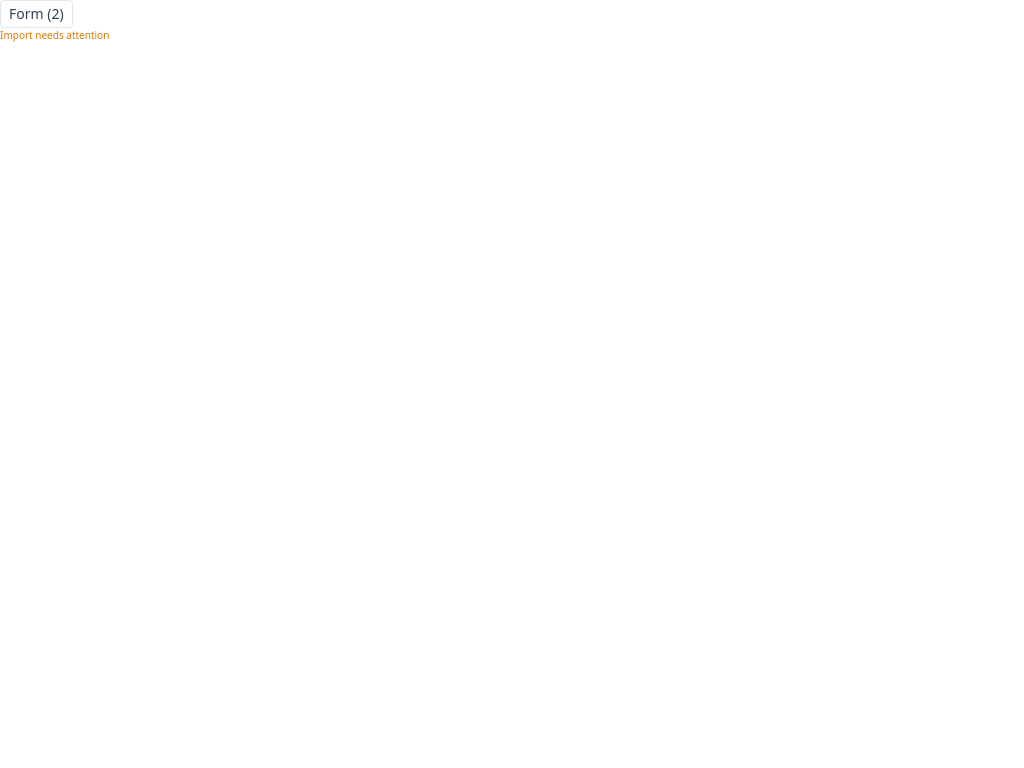
Test: pretrip form details › keeps submissions from different inspection days selectable
Click the button "Form (2)": {"x": 36, "y": 14} [0,0,73,28]
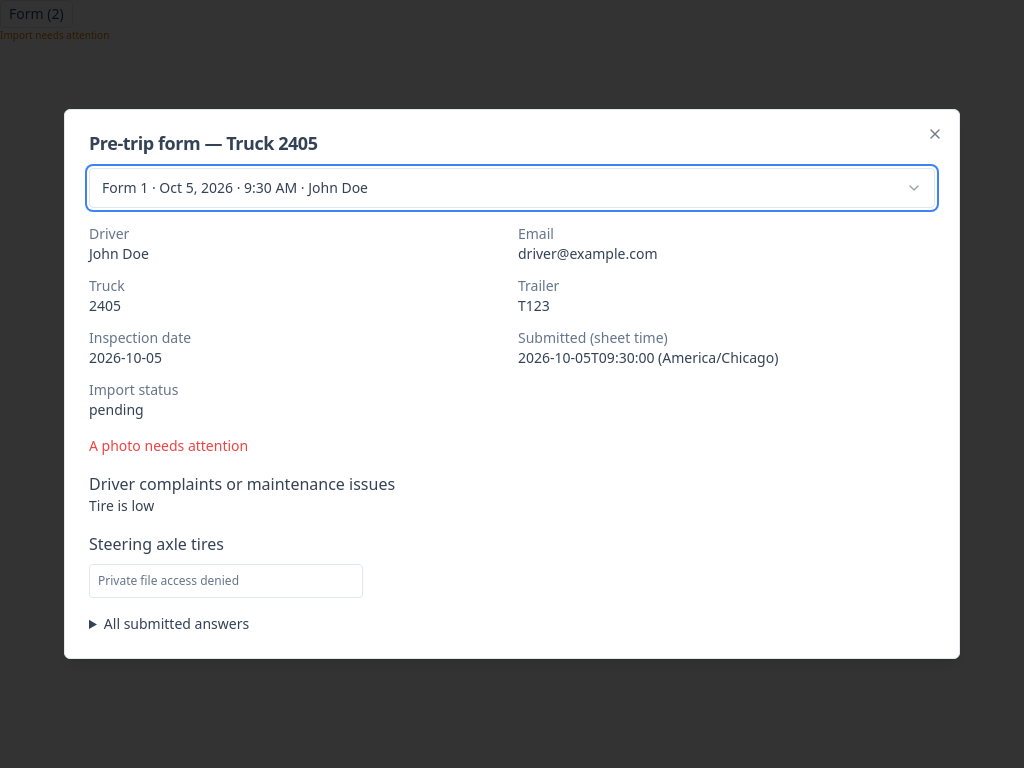
Press ArrowDown in the dropdown named "Select form submission", box [89,168,935,208]
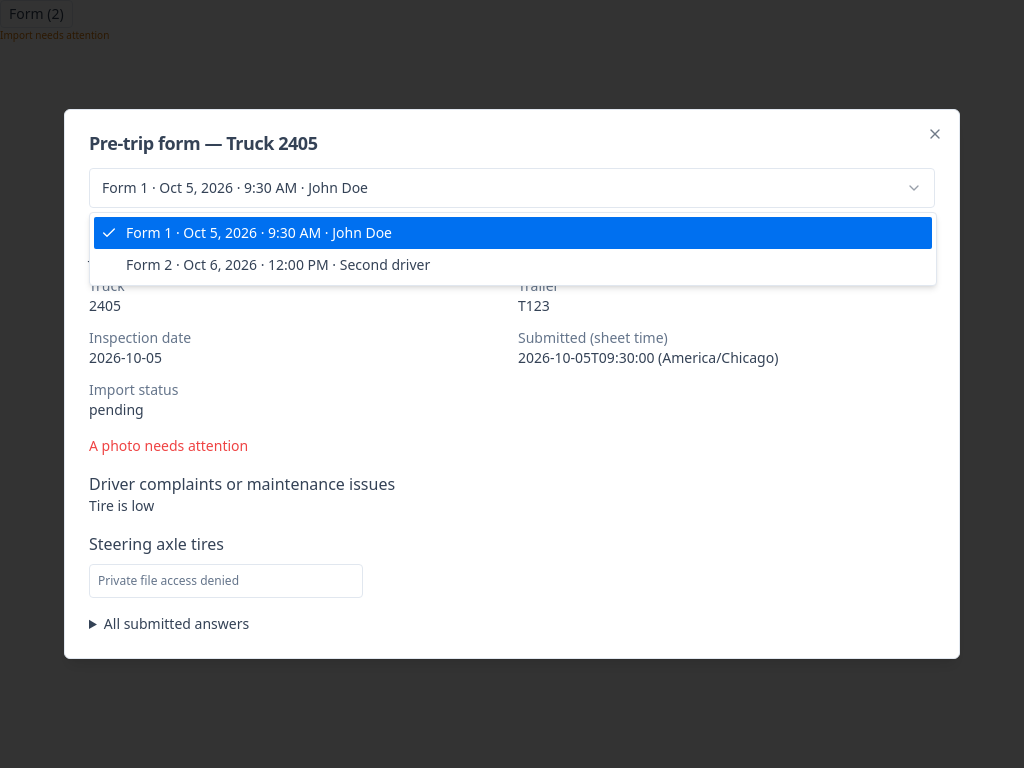
Expected: the option "Form 2 · Oct 6, 2026 · 12:00 PM · Second driver" is shown
Click the option "Form 2 · Oct 6, 2026 · 12:00 PM · Second driver": {"x": 278, "y": 264} [126,255,430,274]
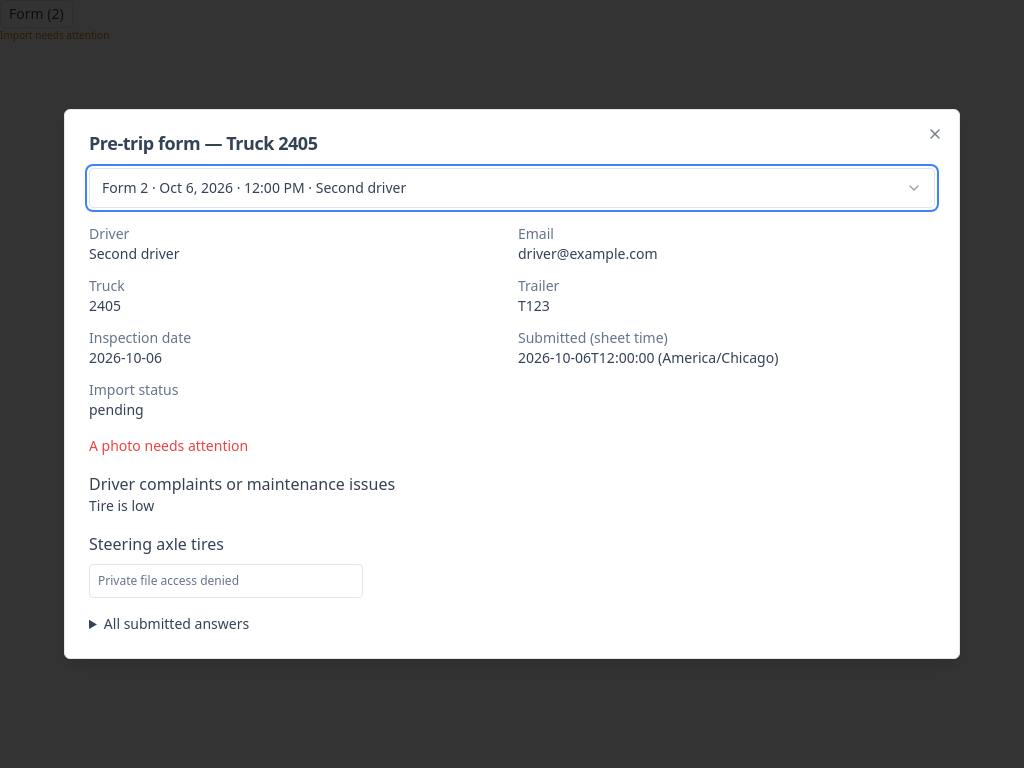
Expected: the text "Second driver" is shown, [89,244,180,263]
